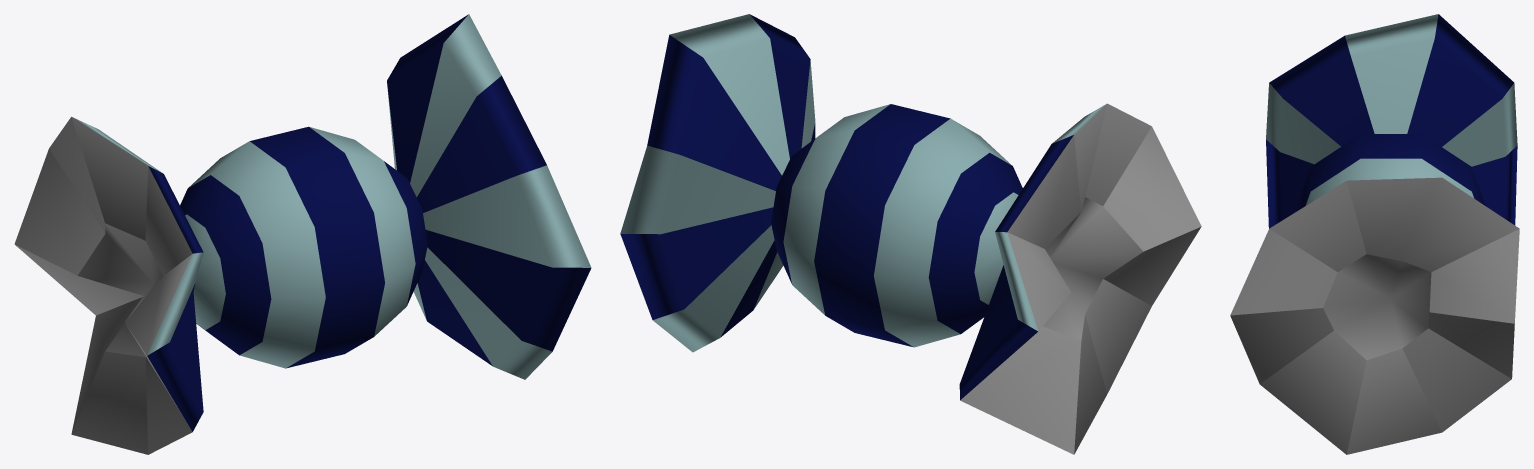
The model's file is Candy_Blue 1.fbx.
3 views of the same model, side by side, from view 1: azimuth 30°, elevation 25°; view 2: azimuth 150°, elevation 25°; view 3: azimuth 270°, elevation 25° (orthographic). The views are drawn at different scales.
Visible parts, largest first — view 1: pSphere1; view 2: pSphere1; view 3: pSphere1.
Part boxes in pixels (x1,y1,x2,y2): pSphere1: (14,14,591,454); pSphere1: (620,14,1201,454); pSphere1: (1230,14,1519,454).
Size of the model in its own units: 3.81 by 2.74 by 2.59.
